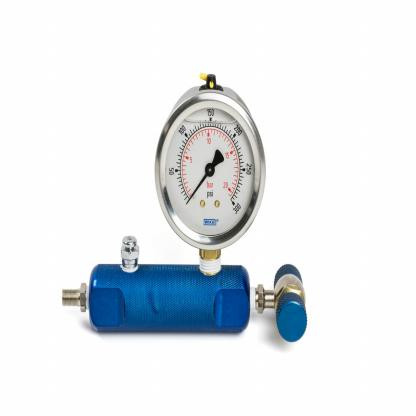needle: (185, 173, 208, 205)
